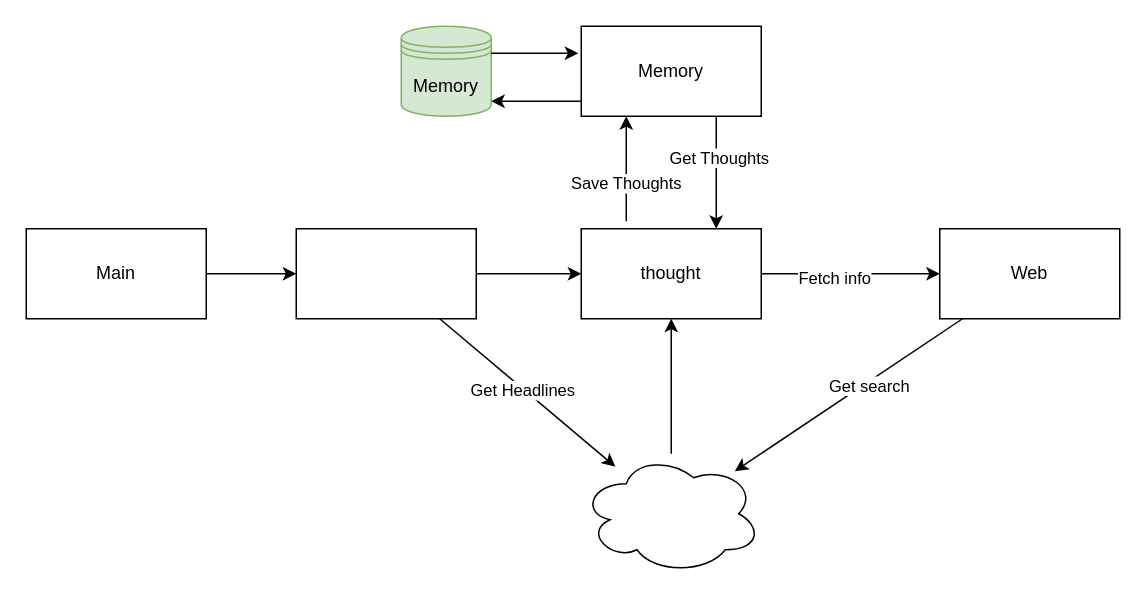
This 1146x600 diagram has some shape labels left out. Each missing label, with the centre of its shape:
Internet: [670,513]
News: [385,273]
